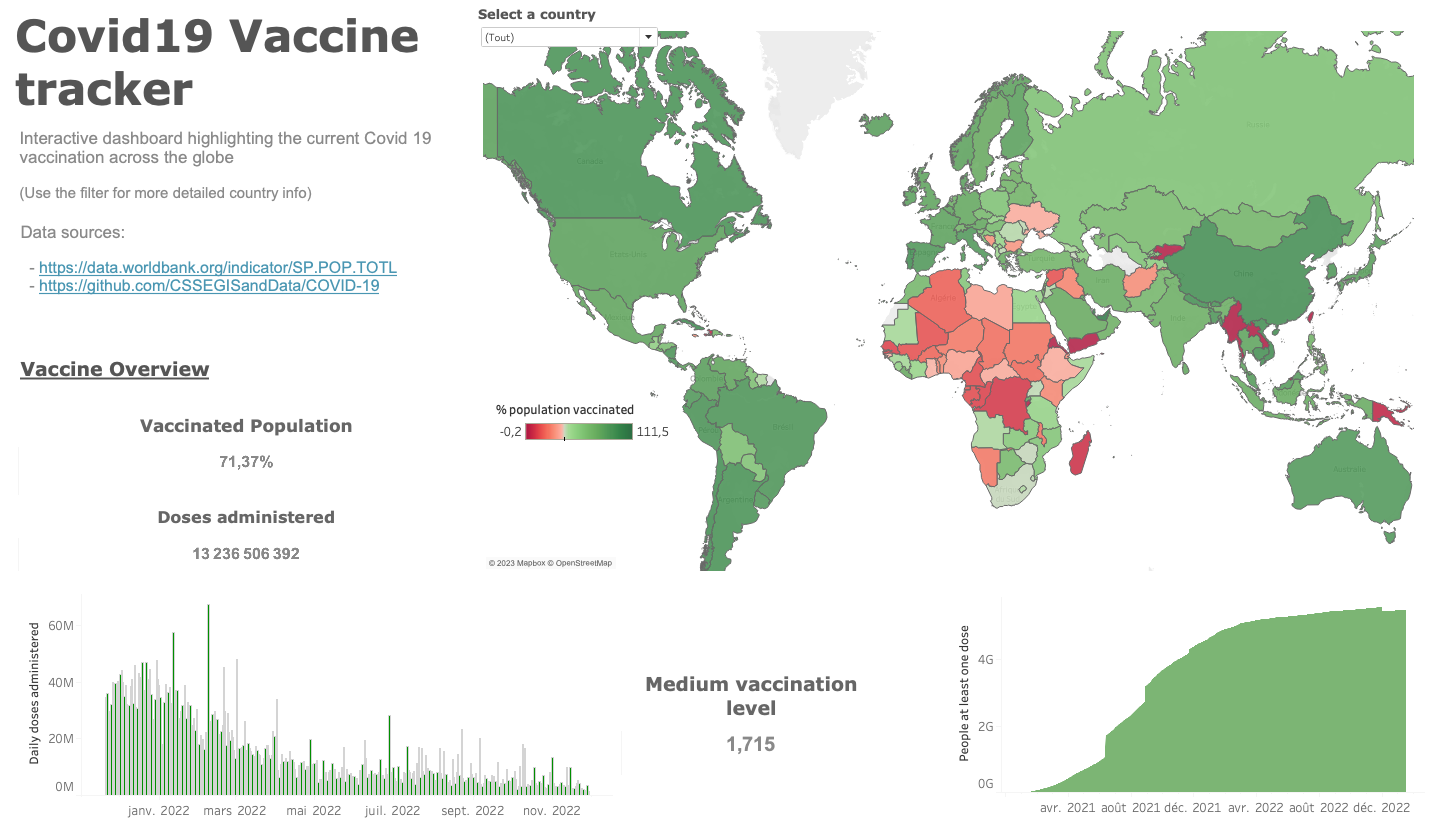

The page's visual inventory and layout, read from the dashboard file:
{"tool":"tableau","page":{"name":"Vaccination Status","canvas":[1420,850],"ordinal":1},"visuals":[{"type":"text","box":[7,10,513,129]},{"type":"filter","title":"GeoMap Vac Status","param":"[federated.0b1zsqv1sy6u9s127zj8q0cv0n31].[none:Country/Region (Vaccine):nk]","box":[472,19,183,47]},{"type":"text","box":[8,40,465,32]},{"type":"worksheet","title":"GeoMap Vac Status","mark":"Automatic","cols":["date (Vaccine)"],"box":[473,40,939,548.1]},{"type":"text","box":[11,138,479,81]},{"type":"text","box":[12,223,584,99]},{"type":"text","box":[8,344.1,465,76]},{"type":"legend","title":"GeoMap Vac Status","param":"[federated.0b1zsqv1sy6u9s127zj8q0cv0n31].[usr:Calculation_3866692176821010434:qk","box":[490,414,178,58]},{"type":"worksheet","title":"1DoseRatio","mark":"Text","cols":["date (Vaccine)"],"box":[8,420.1,465,92]},{"type":"worksheet","title":"Vaccine","mark":"Text","cols":["date (Vaccine)"],"box":[8,512.1,465,76]},{"type":"worksheet","title":"Vaccine Trend","mark":"Bar","rows":["Doses_admin"],"cols":["date (Vaccine)"],"box":[8,588.1,603,253.9]},{"type":"worksheet","title":"Vaccine Trend (2)","mark":"Area","rows":["People_at_least_one_dose"],"cols":["date (Vaccine)"],"box":[942,610,477,225]},{"type":"worksheet","title":"Global Vac Ratio","mark":"Text","cols":["date (Vaccine)"],"box":[611,677.1,269,115]}]}

Visuals, with their boxes in screenshot pixels (x1, y1, x2, y2), scaled from the page's 1420x850 canvas onto the 1429x840 screenshot:
text: (left=7, top=10, right=523, bottom=137)
"GeoMap Vac Status" filter: (left=475, top=19, right=659, bottom=65)
text: (left=8, top=40, right=476, bottom=71)
"GeoMap Vac Status" worksheet: (left=476, top=40, right=1421, bottom=581)
text: (left=11, top=136, right=493, bottom=216)
text: (left=12, top=220, right=600, bottom=318)
text: (left=8, top=340, right=476, bottom=415)
"GeoMap Vac Status" legend: (left=493, top=409, right=672, bottom=466)
"1DoseRatio" worksheet (Text marks): (left=8, top=415, right=476, bottom=506)
"Vaccine" worksheet (Text marks): (left=8, top=506, right=476, bottom=581)
"Vaccine Trend" worksheet (Bar marks): (left=8, top=581, right=615, bottom=832)
"Vaccine Trend (2)" worksheet (Area marks): (left=948, top=603, right=1428, bottom=825)
"Global Vac Ratio" worksheet (Text marks): (left=615, top=669, right=886, bottom=783)
